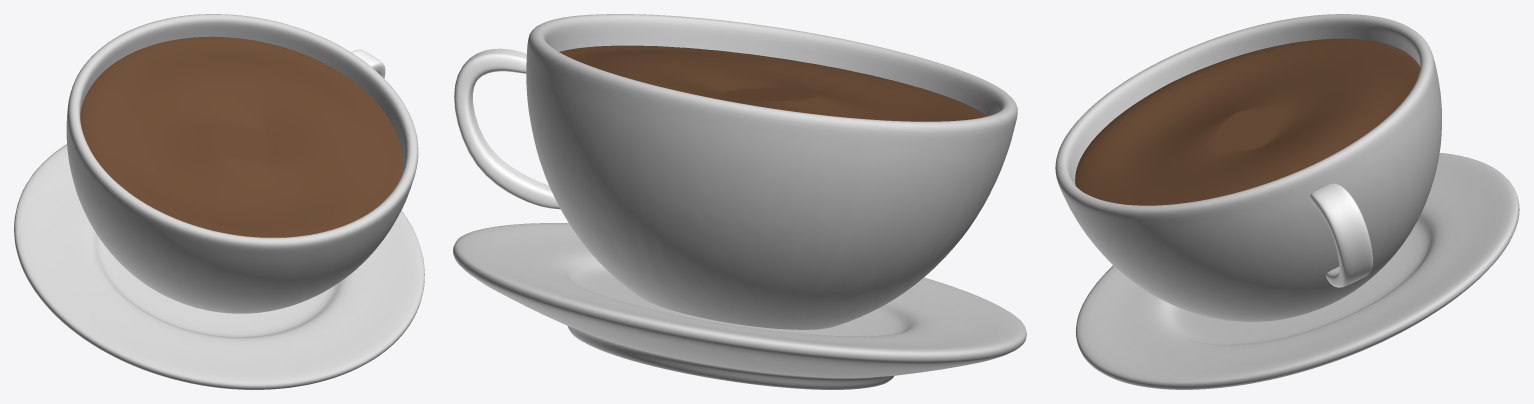
The model's file is mug.glb.
The picture shows the model from 3 angles, left to right: view 1: azimuth 30°, elevation 25°; view 2: azimuth 150°, elevation 25°; view 3: azimuth 270°, elevation 25°; orthographic projection. The views are drawn at different scales.
Parts seen in each view (by area): view 1: Sphere.008, Circle.019, Sphere.007, Cube.017; view 2: Sphere.007, Circle.019, Sphere.008, Cube.017; view 3: Sphere.007, Circle.019, Sphere.008, Cube.017.
Part boxes in pixels (<box>): Sphere.008: <box>80,36,402,237</box>; Circle.019: <box>14,144,424,389</box>; Sphere.007: <box>66,14,418,313</box>; Cube.017: <box>351,49,385,78</box>; Sphere.007: <box>526,14,1017,329</box>; Circle.019: <box>453,223,1026,389</box>; Sphere.008: <box>559,45,986,121</box>; Cube.017: <box>454,48,560,209</box>; Sphere.007: <box>1055,14,1441,321</box>; Circle.019: <box>1075,153,1519,389</box>; Sphere.008: <box>1075,38,1420,205</box>; Cube.017: <box>1310,183,1372,287</box>.
Bounding box in the file's own units: 5.75 × 3.93 × 5.7.
